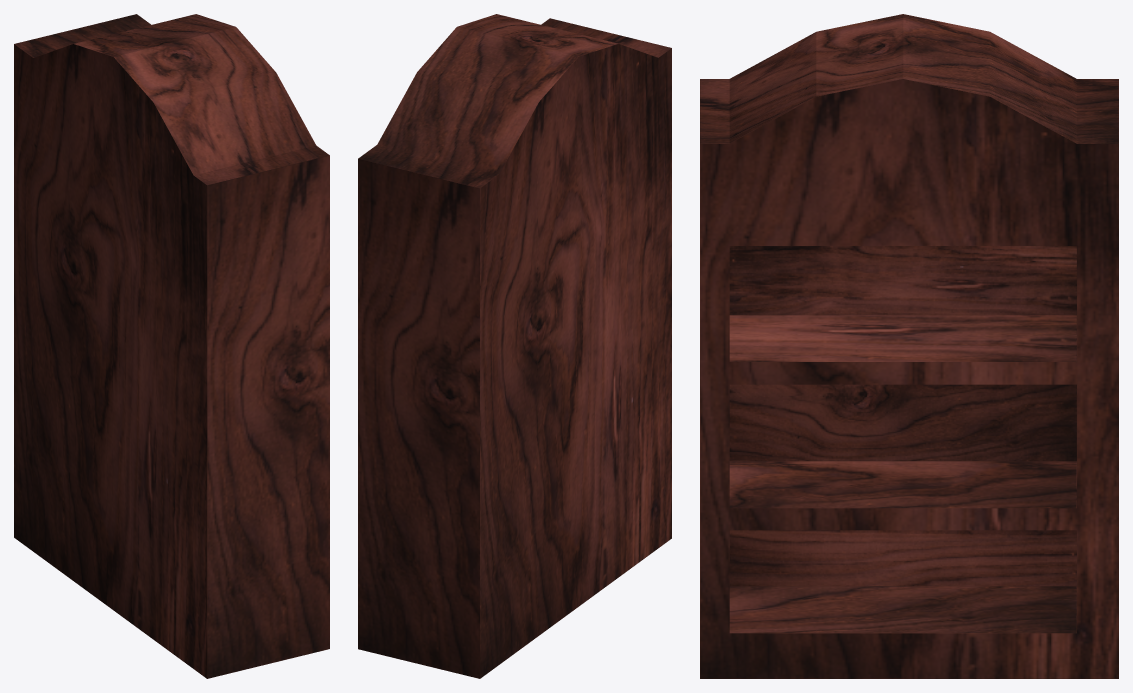
Rendered from Bookshelf.fbx.
3 views of the same model, side by side, from view 1: azimuth 30°, elevation 25°; view 2: azimuth 150°, elevation 25°; view 3: azimuth 270°, elevation 25° (orthographic). The views are drawn at different scales.
Visible parts, largest first — view 1: Cube.038; view 2: Cube.038; view 3: Cube.038.
Part boxes in pixels (bbox=[...]): Cube.038: bbox=[14, 14, 329, 678]; Cube.038: bbox=[358, 14, 671, 678]; Cube.038: bbox=[700, 14, 1118, 678].
Bounding box in the file's own units: 59.45 × 162 × 256.
